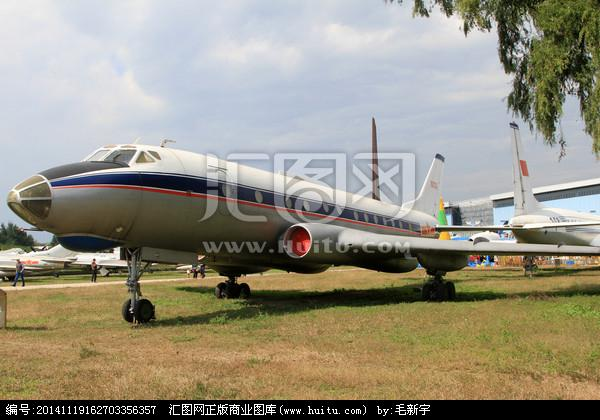airplane: (7, 123, 600, 308)
